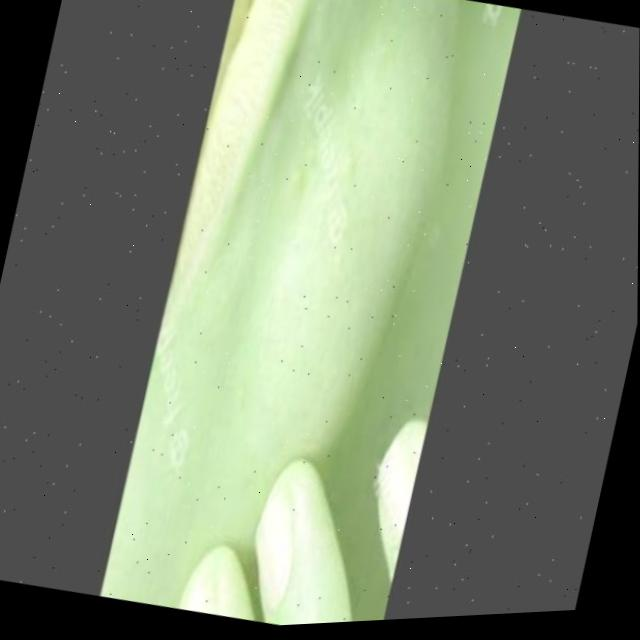Acne: (144, 0, 467, 530)
